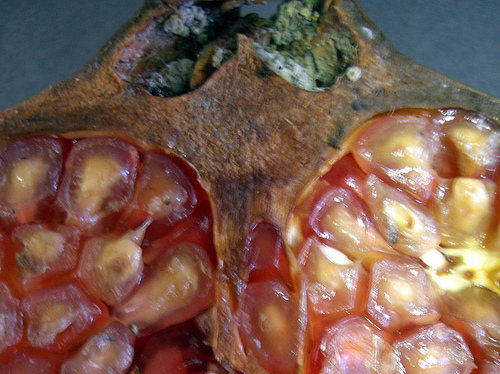pomogranate: (1, 0, 499, 373)
